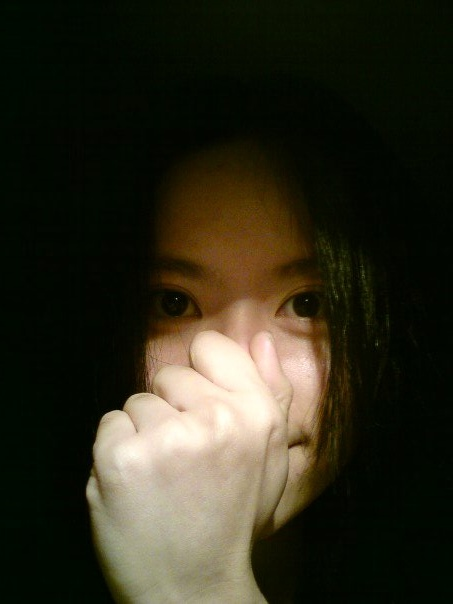face: (125, 180, 340, 530)
